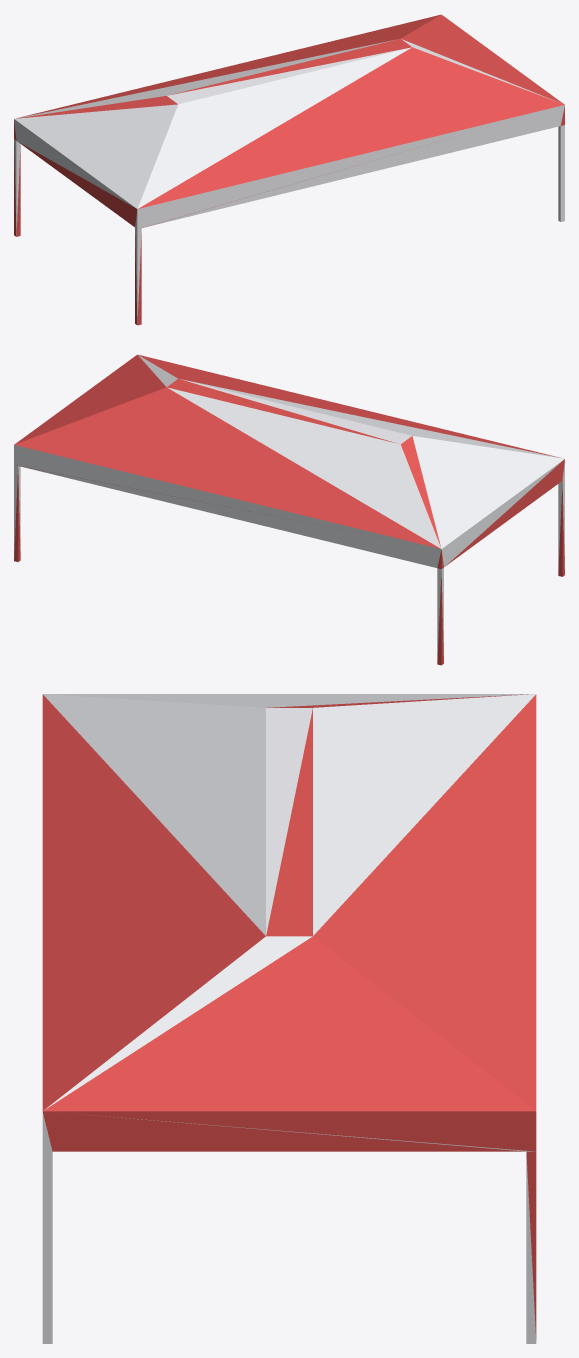
Rendered from tentLong.glb.
3 views of the same model, one above another, from view 1: azimuth 30°, elevation 25°; view 2: azimuth 150°, elevation 25°; view 3: azimuth 270°, elevation 25° (orthographic). The views are drawn at different scales.
Parts seen in each view (by area): view 1: tentLong; view 2: tentLong; view 3: tentLong.
Boxes of the visible parts, <box> form: tentLong: <box>14,14,564,325</box>; tentLong: <box>14,354,564,665</box>; tentLong: <box>42,694,536,1343</box>.
Bounding box in the file's own units: 20 × 7 × 10.
